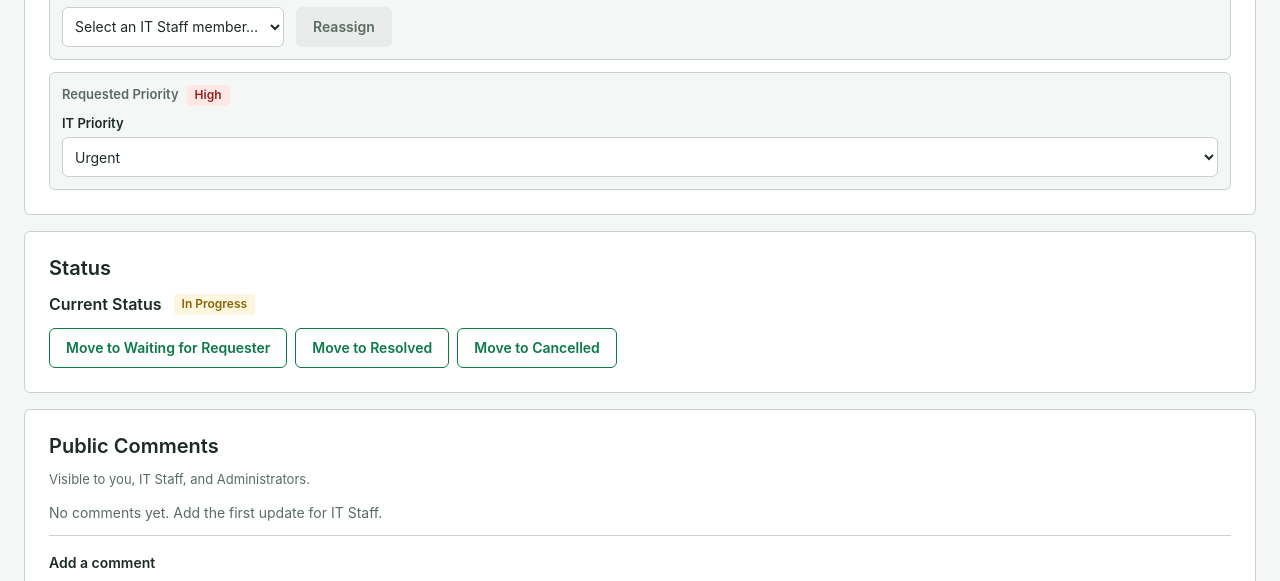
Test: UI-10 — Ticket Detail automated accessibility (ui-spec §9) › binds an inline action failure to the control that caused it
(page scrolled)
Step 1. Click the button with test id "workflow-transition-WAITING_FOR_REQUESTER" → (168, 348), box [49,328,287,368]
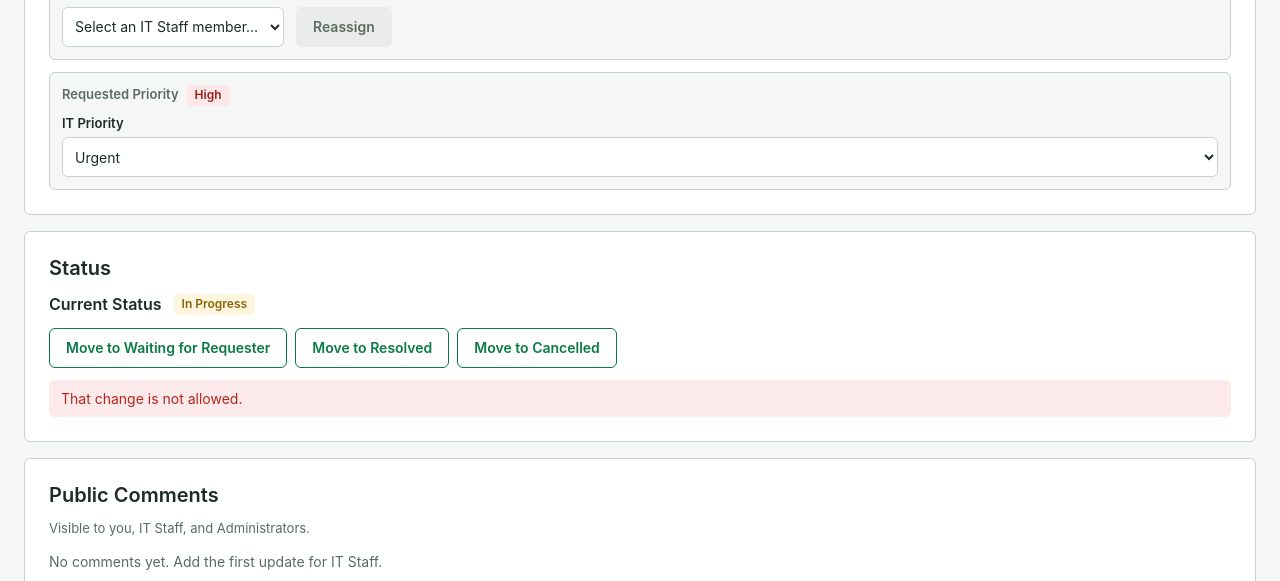
Expected: the dropdown labelled "IT Priority" is enabled, [62,137,1218,177]
Expected: the message with test id "workflow-error" shows "not allowed", [61,390,242,407]
